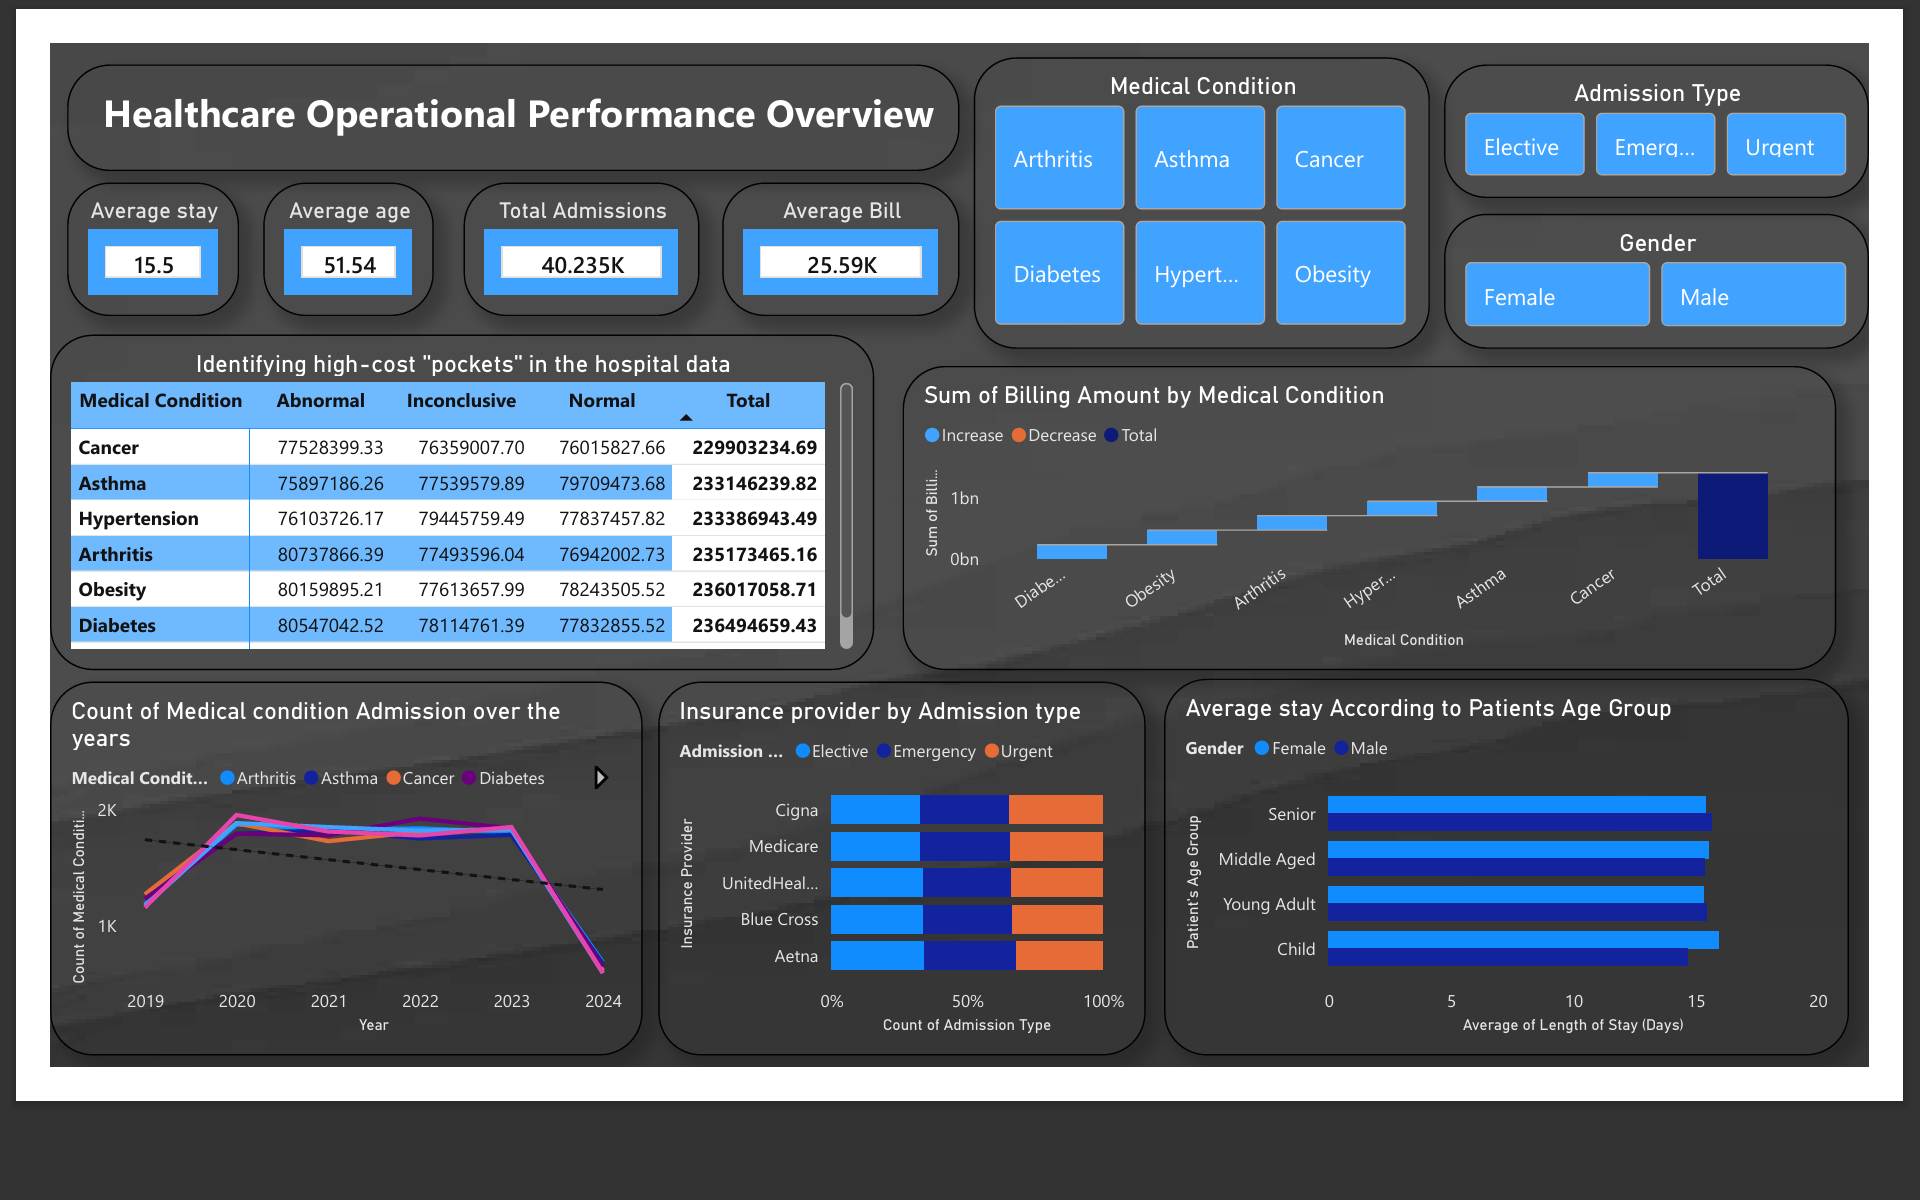

This screenshot's page, from the dashboard's own definition file:
{"tool":"powerbi","page":{"name":"Healthcare Dashboard","canvas":[1280,720],"ordinal":0},"visuals":[{"type":"lineChart","title":"Count of Medical condition Admission over the years","fields":{"Category":["healthcare_datasett.Date of Admission.Variation.Date Hierarchy.Year","healthcare_datasett.Date of Admission.Variation.Date Hierarchy.Quarter","healthcare_datasett.Date of Admission.Variation.Date Hierarchy.Month","healthcare_datasett.Date of Admission.Variation.Date Hierarchy.Day"],"Series":["healthcare_datasett.Medical Condition"],"Y":["healthcare_datasett.Medical Condition"]},"box":[0,448.8,417.4,262.8],"z":0},{"type":"advancedSlicerVisual","fields":{"Values":["healthcare_datasett.Gender"]},"box":[981.4,119.8,298.8,95.3],"z":1000},{"type":"cardVisual","title":"Average age ","fields":{"Data":["healthcare_datasett.Age"]},"box":[150,97.7,119.8,94.2],"z":2000},{"type":"cardVisual","title":"Average stay","fields":{"Data":["healthcare_datasett.Length of Stay (Days)"]},"box":[11.6,97.7,120.9,94.2],"z":3000},{"type":"hundredPercentStackedBarChart","title":"Insurance provider by Admission type ","fields":{"Category":["healthcare_datasett.Insurance Provider"],"Series":["healthcare_datasett.Admission Type"],"Y":["healthcare_datasett.Admission Type"]},"box":[427.9,448.8,343,262.8],"z":4000},{"type":"pivotTable","title":"Identifying high-cost \"pockets\" in the hospital data","fields":{"Rows":["healthcare_datasett.Medical Condition"],"Columns":["healthcare_datasett.Test Results"],"Values":["healthcare_datasett.Billing Amount"]},"box":[0,204.7,580.2,236],"z":5000},{"type":"textbox","box":[11.6,15.1,627.9,74.4],"z":6000},{"type":"clusteredBarChart","title":"Average stay According to Patients Age Group","fields":{"Category":["healthcare_datasett.Patient's Age Group"],"Y":["healthcare_datasett.Length of Stay (Days)"],"Series":["healthcare_datasett.Gender"]},"box":[783.7,446.5,482.6,265.1],"z":7000},{"type":"advancedSlicerVisual","fields":{"Values":["healthcare_datasett.Admission Type"]},"box":[981.4,15.1,298.8,94.2],"z":8000},{"type":"waterfallChart","fields":{"Category":["healthcare_datasett.Medical Condition"],"Y":["healthcare_datasett.Billing Amount"]},"box":[600,226.7,657,214],"z":9000},{"type":"cardVisual","title":"Total Admissions","fields":{"Data":["healthcare_datasett.Patient Names"]},"box":[290.7,97.7,166.3,94.2],"z":10000},{"type":"cardVisual","title":"Average Bill","fields":{"Data":["healthcare_datasett.Billing Amount"]},"box":[473.3,97.7,166.3,94.2],"z":11000},{"type":"advancedSlicerVisual","fields":{"Values":["healthcare_datasett.Medical Condition"]},"box":[650,10.5,320.9,204.7],"z":12000}]}

Visuals, with their boxes on the page's 1280x720 design canvas (x1, y1, x2, y2). These are canvas units, not pixel positions in the 1920x1200 screenshot, which may show the page scaled, cropped or inside an application window:
"Count of Medical condition Admission over the years" lineChart: bbox=(0, 449, 417, 712)
advancedSlicerVisual - healthcare_datasett.Gender: bbox=(981, 120, 1280, 215)
"Average age " cardVisual: bbox=(150, 98, 270, 192)
"Average stay" cardVisual: bbox=(12, 98, 132, 192)
"Insurance provider by Admission type " hundredPercentStackedBarChart: bbox=(428, 449, 771, 712)
"Identifying high-cost "pockets" in the hospital data" pivotTable: bbox=(0, 205, 580, 441)
textbox: bbox=(12, 15, 640, 90)
"Average stay According to Patients Age Group" clusteredBarChart: bbox=(784, 446, 1266, 712)
advancedSlicerVisual - healthcare_datasett.Admission Type: bbox=(981, 15, 1280, 109)
waterfallChart - healthcare_datasett.Medical Condition x healthcare_datasett.Billing Amount: bbox=(600, 227, 1257, 441)
"Total Admissions" cardVisual: bbox=(291, 98, 457, 192)
"Average Bill" cardVisual: bbox=(473, 98, 640, 192)
advancedSlicerVisual - healthcare_datasett.Medical Condition: bbox=(650, 10, 971, 215)
